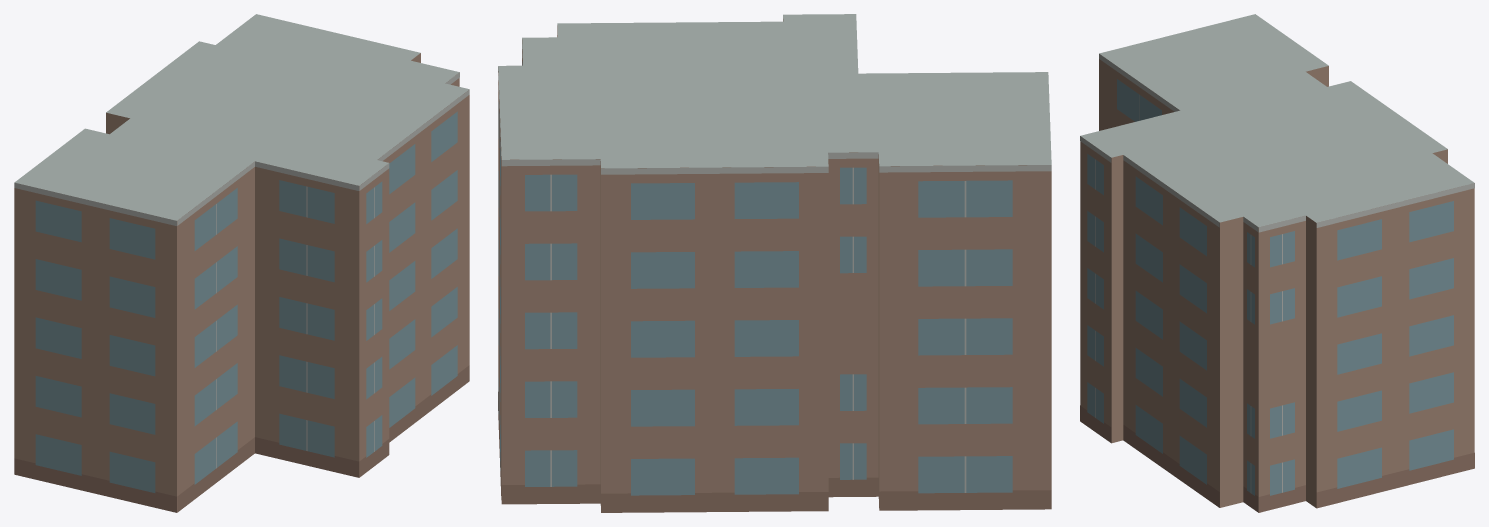
Rendered from survey-upis-32783679.glb.
The picture shows the model from 3 angles, left to right: view 1: azimuth 30°, elevation 25°; view 2: azimuth 150°, elevation 25°; view 3: azimuth 270°, elevation 25°; orthographic projection. The views are drawn at different scales.
Parts seen in each view (by area): view 1: survey-upis-32783679.tmp; view 2: survey-upis-32783679.tmp; view 3: survey-upis-32783679.tmp.
Boxes of the visible parts, box(x1,y1,x2,y2) form: survey-upis-32783679.tmp: box(14, 14, 469, 512); survey-upis-32783679.tmp: box(498, 14, 1051, 512); survey-upis-32783679.tmp: box(1080, 14, 1474, 512).
Bounding box in the file's own units: 21.24 × 13.25 × 16.61.
